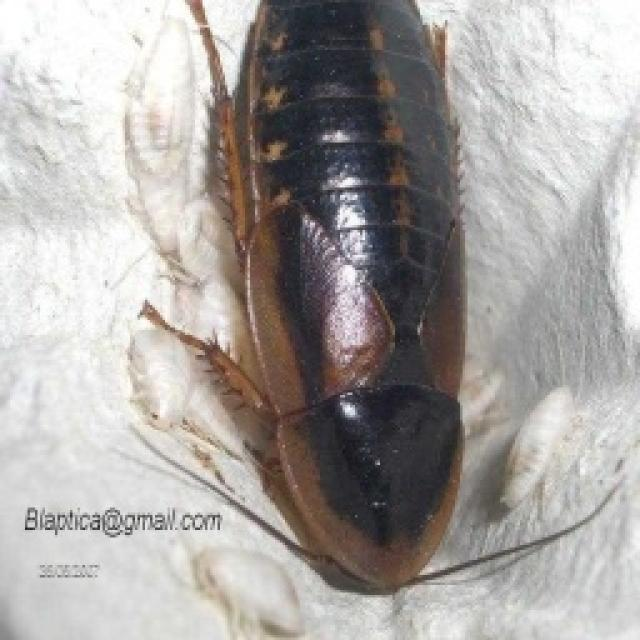cockroach: (182, 0, 494, 606)
